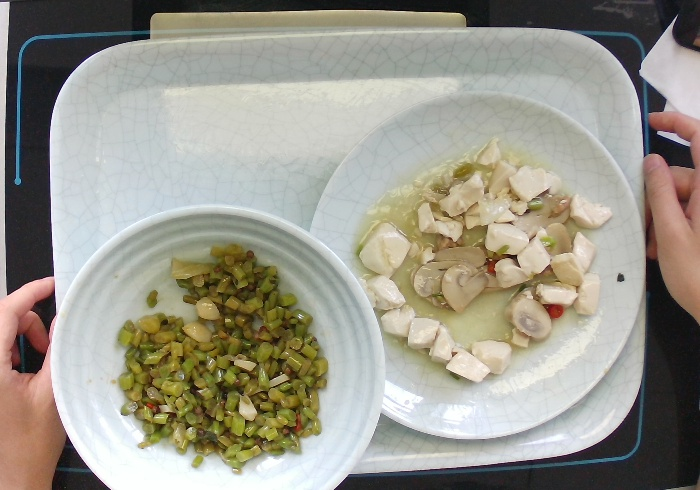JYsf-Da_Tang_Wan: (303, 82, 652, 451)
JYsf-Da_Yuan_Pan: (34, 199, 389, 490)
